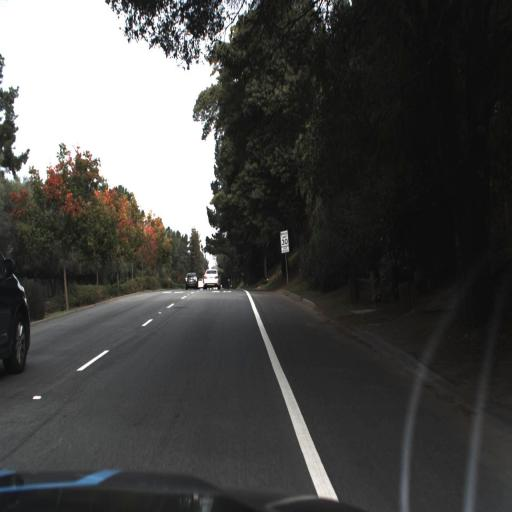car: (0, 221, 31, 386), (201, 262, 226, 290), (184, 266, 200, 290)
